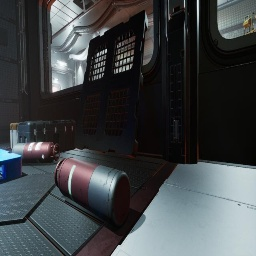NitrogenTank ,: (54, 157, 131, 228), (11, 142, 60, 163)
